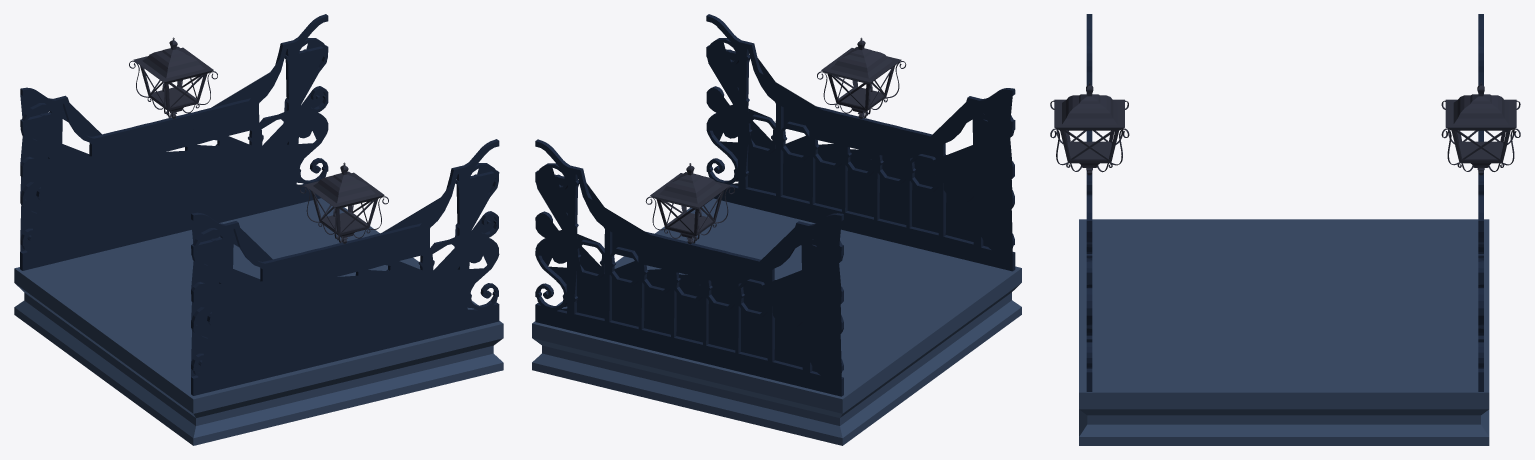
Rendered from Elevator_Entrance.fbx.
3 renders of one model, left to right at view 1: azimuth 30°, elevation 25°; view 2: azimuth 150°, elevation 25°; view 3: azimuth 270°, elevation 25°, orthographic. The views are drawn at different scales.
Visible parts, largest first — view 1: Fence_path847.001; view 2: Fence_path847.001; view 3: Fence_path847.001.
Boxes of the visible parts, x1,y1,x2,y2 form: Fence_path847.001: (14, 14, 503, 445); Fence_path847.001: (532, 14, 1021, 445); Fence_path847.001: (1050, 14, 1520, 445).
Bounding box in the file's own units: 200 × 149 × 229.
